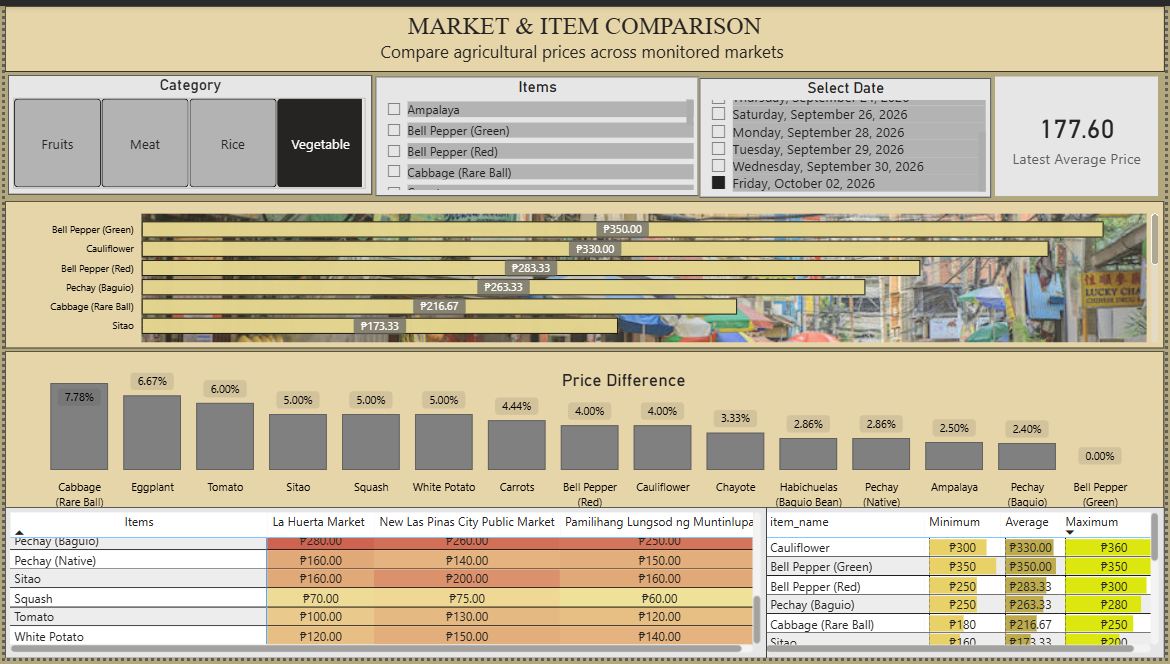

Layout of this report page (visuals, bound fields, positions):
{"tool":"powerbi","page":{"name":"Market & Item Comparison","canvas":[1280,720],"ordinal":1},"visuals":[{"type":"barChart","title":"Item Price by Market","fields":{"Category":["agriproject_db vw_price_analysis.item_name"],"Y":["agriproject_db vw_price_analysis.Average Price"]},"box":[0,215.3,1280,162.3],"z":1000},{"type":"card","fields":{"Values":["agriproject_db vw_price_analysis.Latest Average Price"]},"box":[1093.3,78.3,180,131.7],"z":2000},{"type":"textbox","box":[0,0,1280.5,72.9],"z":3000},{"type":"slicer","title":"Items","fields":{"Values":["agriproject_db vw_price_analysis.item_name"]},"box":[408.3,78.3,356.7,131.7],"z":4000},{"type":"clusteredColumnChart","title":"Price Difference","fields":{"Category":["agriproject_db vw_price_analysis.item_name"],"Y":["Divide(agriproject_db vw_price_analysis.Price diff %, ScopedEval(agriproject_db vw_price_analysis.Price diff %, []))"]},"box":[0,381.7,1280,183.3],"z":4500},{"type":"advancedSlicerVisual","title":"Category","fields":{"Values":["agriproject_db vw_price_analysis.category_name"]},"box":[3.3,76.7,401.7,131.7],"z":5000},{"type":"slicer","title":"Select Date","fields":{"Values":["agriproject_db vw_price_analysis.price_date"]},"box":[766.7,80,321.7,131.7],"z":6000},{"type":"tableEx","fields":{"Values":["agriproject_db vw_price_analysis.item_name","agriproject_db vw_price_analysis.Min price","agriproject_db vw_price_analysis.Average Price","agriproject_db vw_price_analysis.Max price"]},"box":[833,554,447,167],"z":7000},{"type":"textbox","box":[533.4,395.9,299.8,34.8],"z":8001},{"type":"pivotTable","fields":{"Rows":["agriproject_db vw_price_analysis.item_name"],"Columns":["agriproject_db vw_price_analysis.market_name"],"Values":["agriproject_db vw_price_analysis.Average Price"]},"box":[0,554,841,167],"z":8501}]}

Visuals, with their boxes in screenshot pixels (x1, y1, x2, y2), scaled from the page's 1280x720 canvas onto the 1170x664 screenshot:
"Item Price by Market" barChart: l=0, t=199, r=1169, b=348
card - agriproject_db vw_price_analysis.Latest Average Price: l=999, t=72, r=1164, b=194
textbox: l=0, t=0, r=1169, b=67
"Items" slicer: l=373, t=72, r=699, b=194
"Price Difference" clusteredColumnChart: l=0, t=352, r=1169, b=521
"Category" advancedSlicerVisual: l=3, t=71, r=370, b=192
"Select Date" slicer: l=701, t=74, r=995, b=195
tableEx - agriproject_db vw_price_analysis.item_name x agriproject_db vw_price_analysis.Min price: l=761, t=511, r=1169, b=663
textbox: l=488, t=365, r=762, b=397
pivotTable - agriproject_db vw_price_analysis.item_name x agriproject_db vw_price_analysis.market_name: l=0, t=511, r=769, b=663
